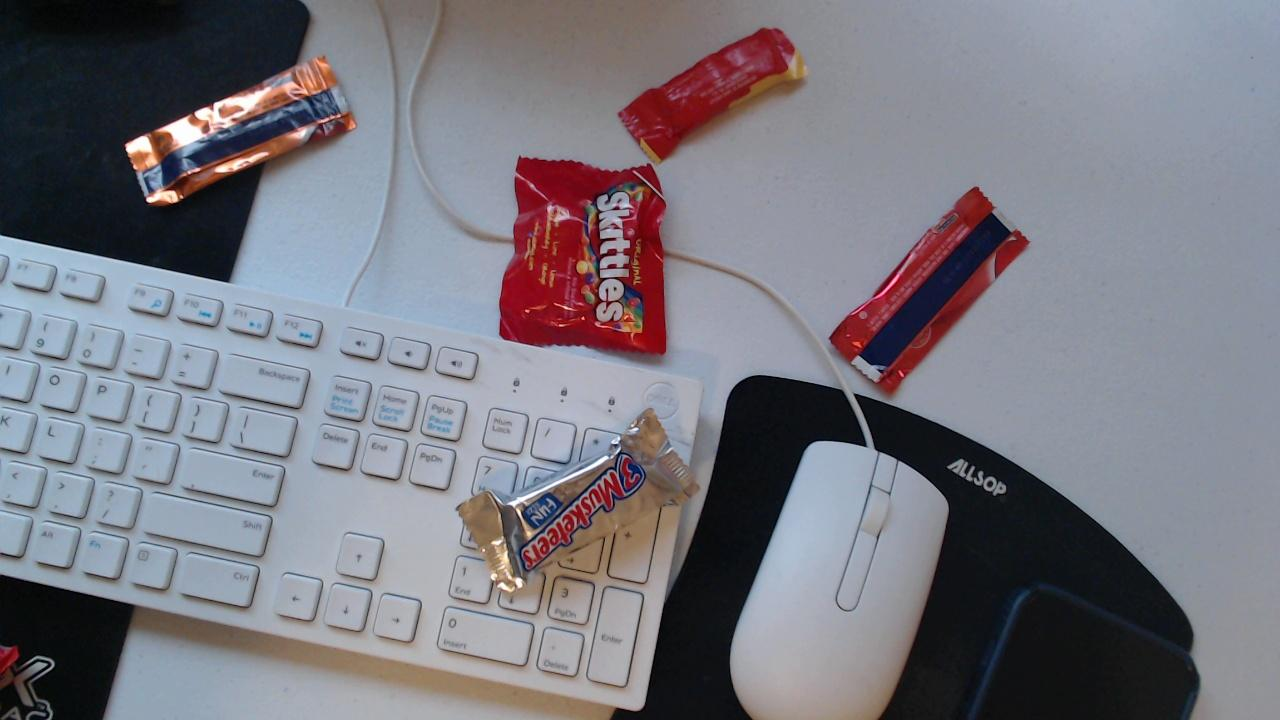Snickers: (125, 55, 357, 208)
airheads: (828, 185, 1030, 392)
musketeers: (459, 408, 699, 596)
skittles: (499, 154, 668, 357)
starburst: (622, 25, 802, 165)
